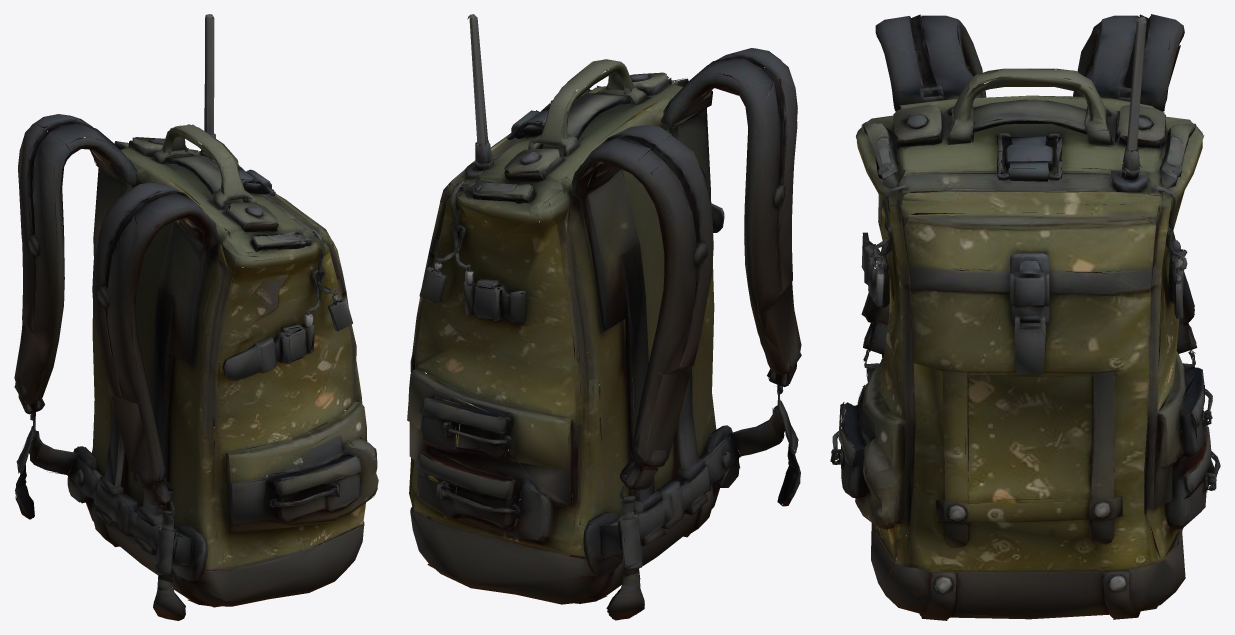
File: mer_radio_backpack_LOD1.glb
3 renders of one model, left to right at view 1: azimuth 30°, elevation 25°; view 2: azimuth 150°, elevation 25°; view 3: azimuth 270°, elevation 25°, orthographic. The views are drawn at different scales.
Visible parts, largest first — view 1: tripo_node_254d8034-fd76-4caa-8b75-29ac752a5a79; view 2: tripo_node_254d8034-fd76-4caa-8b75-29ac752a5a79; view 3: tripo_node_254d8034-fd76-4caa-8b75-29ac752a5a79.
Boxes of the visible parts, left/top/right/bottom form: tripo_node_254d8034-fd76-4caa-8b75-29ac752a5a79: left=14, top=14, right=378, bottom=620; tripo_node_254d8034-fd76-4caa-8b75-29ac752a5a79: left=407, top=14, right=801, bottom=620; tripo_node_254d8034-fd76-4caa-8b75-29ac752a5a79: left=830, top=14, right=1220, bottom=620.
Size of the model in its own units: 0.5424 by 0.9984 by 0.6016.
Materials: 1 (1 with a texture image).
